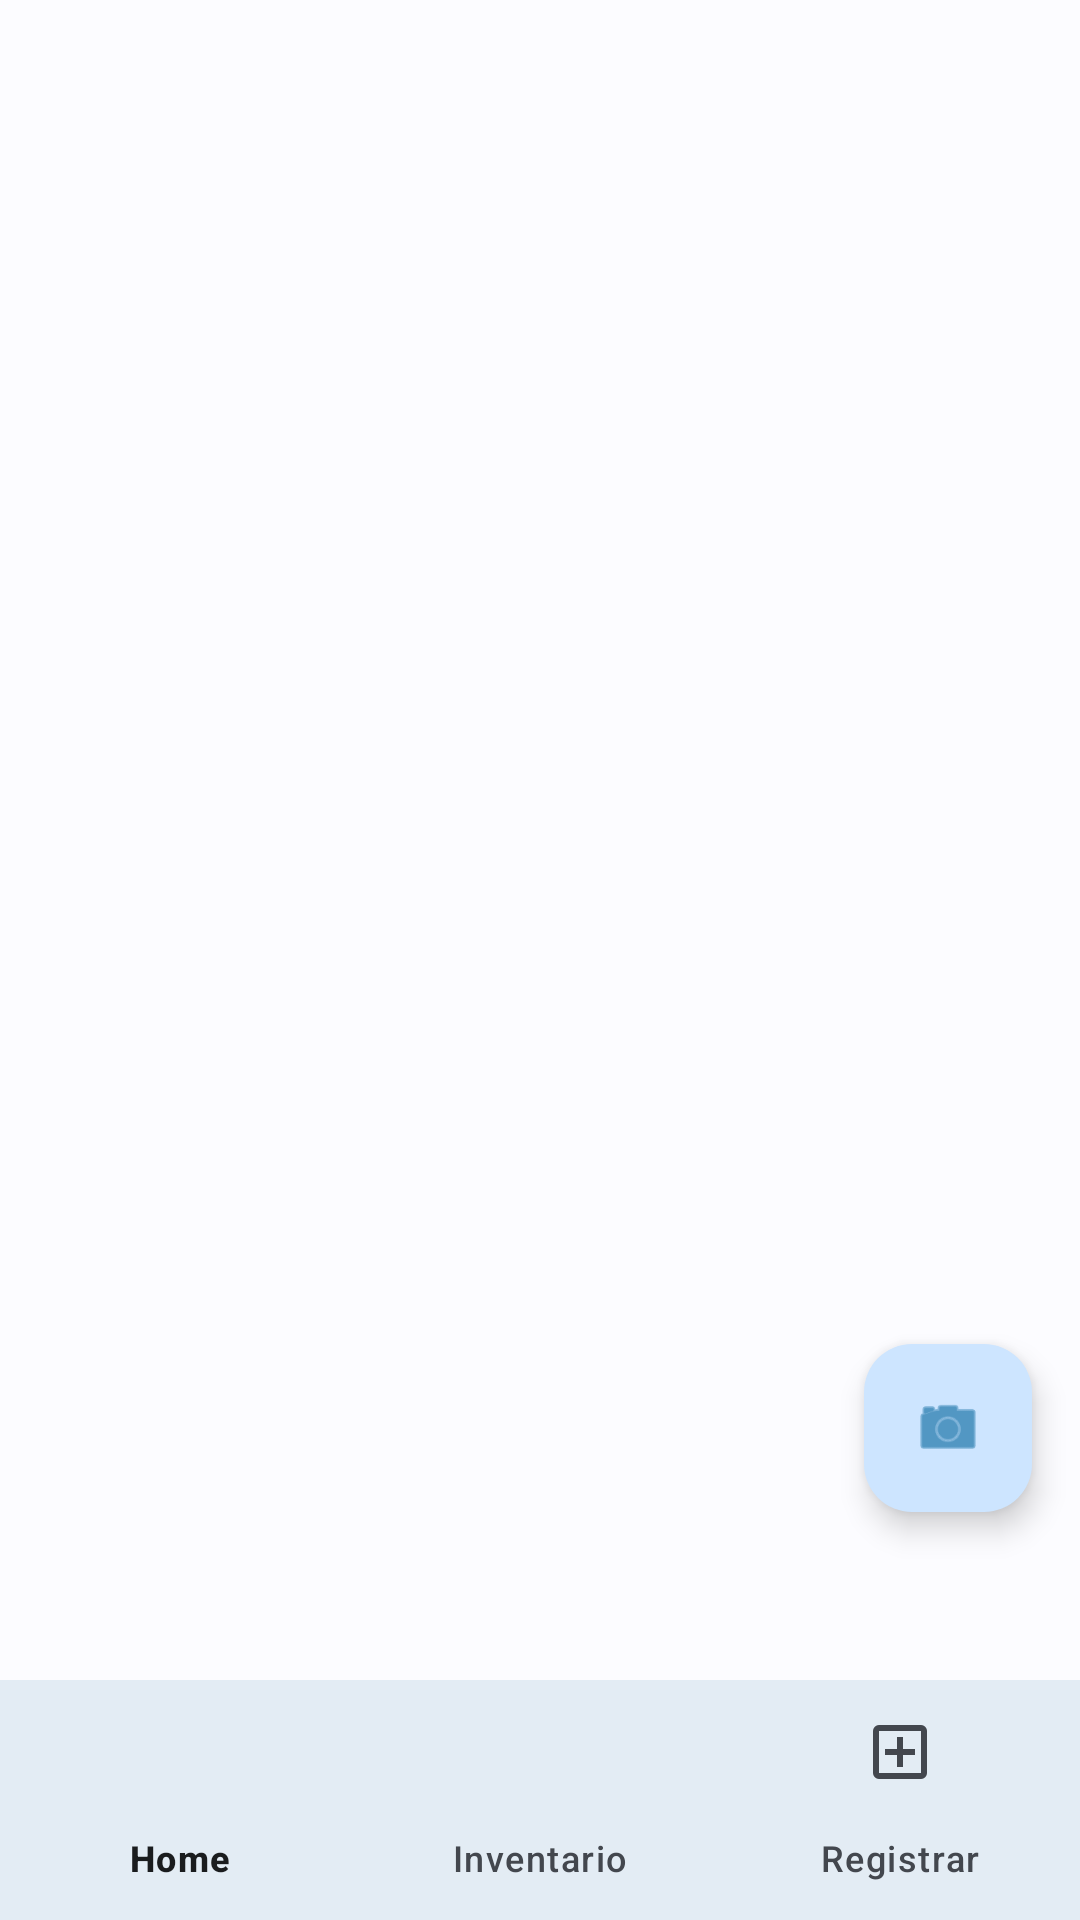

Icon click points for this 1080px×1920px phone screenshot, format [x,y]:
camera: [948,1428]
